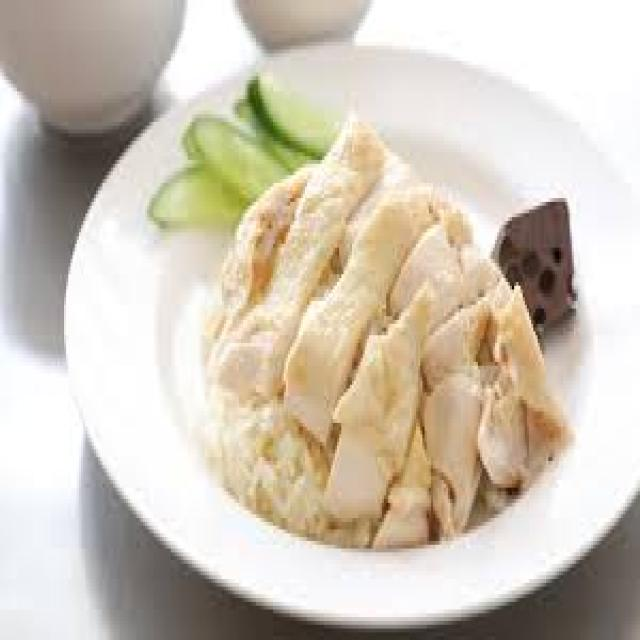Hainanese chicken rice: (120, 61, 590, 573)
carb: (196, 355, 318, 537)
meat: (264, 169, 530, 521)
vegetable: (173, 73, 303, 191)
